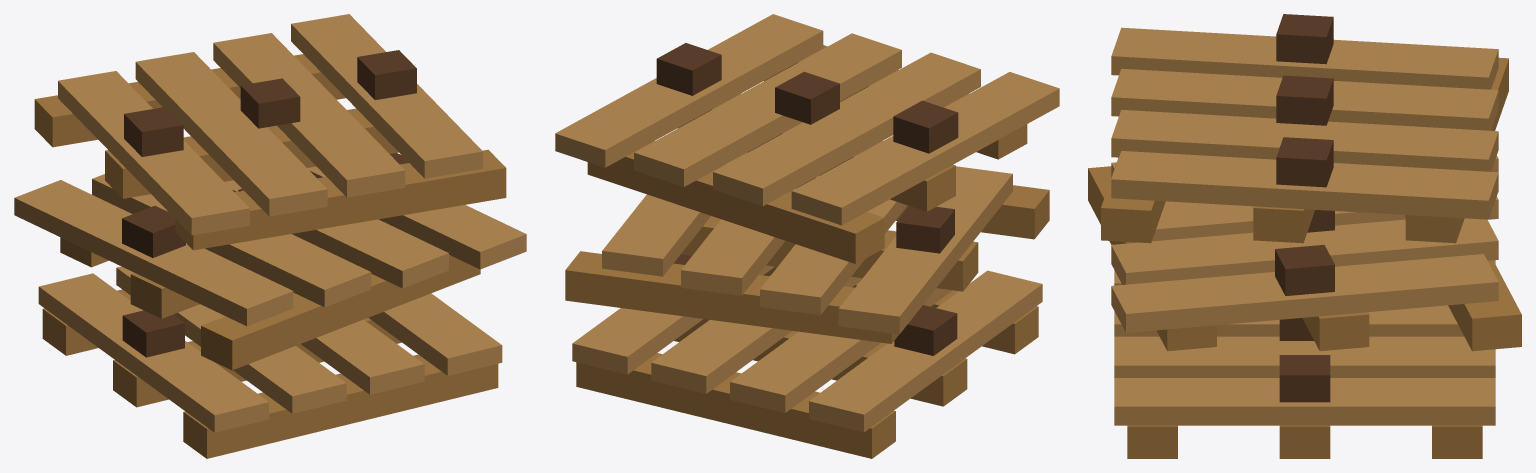
File: env_r7_pallet_stack.glb
3 renders of one model, left to right at view 1: azimuth 30°, elevation 25°; view 2: azimuth 150°, elevation 25°; view 3: azimuth 270°, elevation 25°, orthographic. The views are drawn at different scales.
Parts seen in each view (by area): view 1: env_r7_pallet_stack; view 2: env_r7_pallet_stack; view 3: env_r7_pallet_stack.
Boxes of the visible parts, box(x1,y1,x2,y2) form: env_r7_pallet_stack: box(14, 14, 526, 458); env_r7_pallet_stack: box(555, 14, 1059, 458); env_r7_pallet_stack: box(1088, 14, 1521, 458).
Bounding box in the file's own units: 1.6 × 1.2 × 1.6.
1 material, 1 textured.
